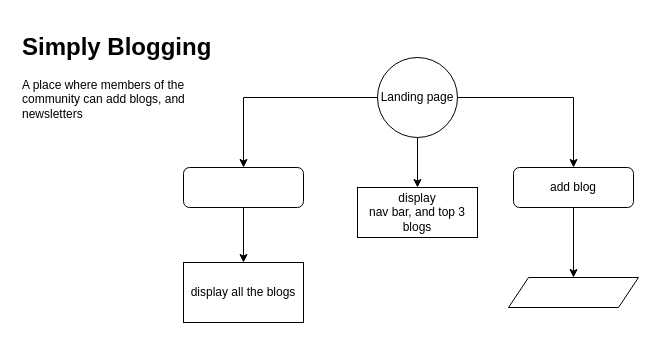
Some shapes in this 656 by 340 pixel diagram are drawn without their labels. The shapes that lost their labels are listed below. From the top down, each one's centre as x and y in pixels, then its label:
At [243,187]: "All Blogs".
At [573,292]: "form to add a blog".
